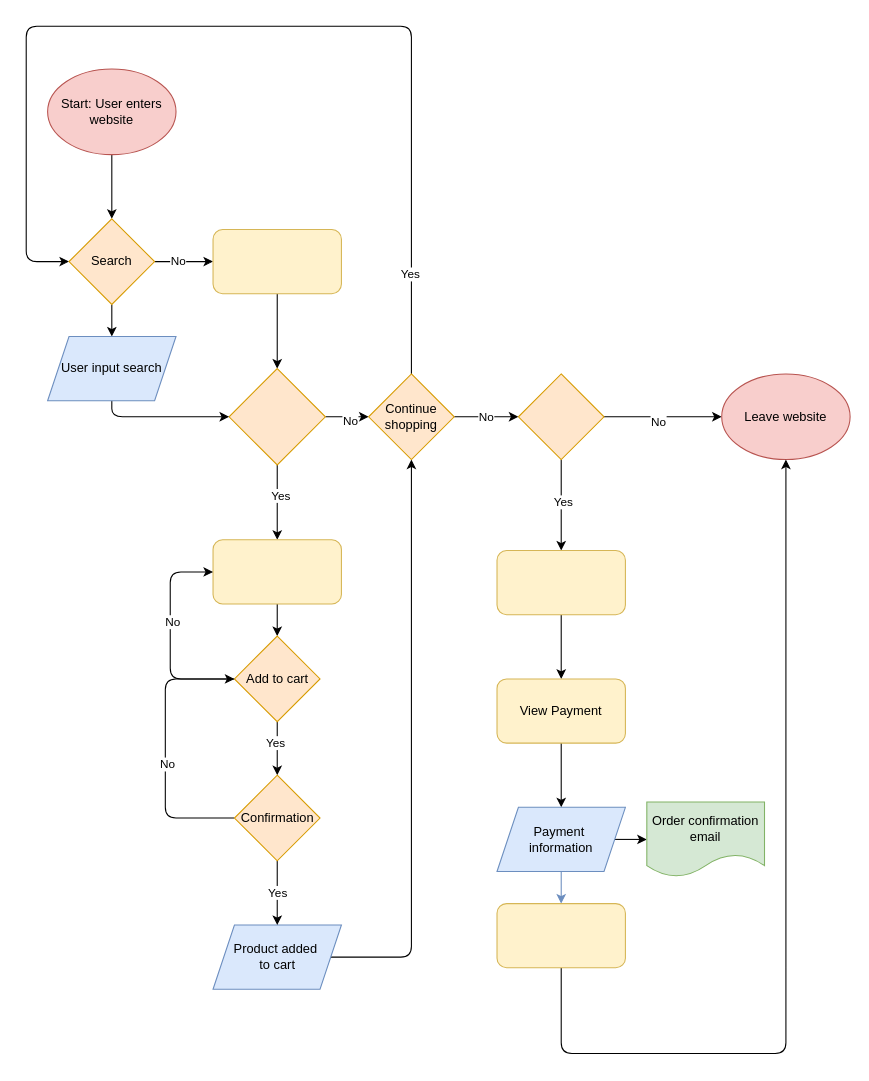
Image size: 869x1081. Some labels were removed from this diagram. The box of each missing label's shape, as (x1, y1, x2, y2) in pixels:
Checkout: (517, 373, 604, 460)
Order confirmation: (496, 903, 625, 968)
Product page: (212, 539, 341, 604)
User browses over products: (212, 228, 341, 294)
View Cart: (496, 549, 625, 615)
View product: (228, 368, 325, 465)
